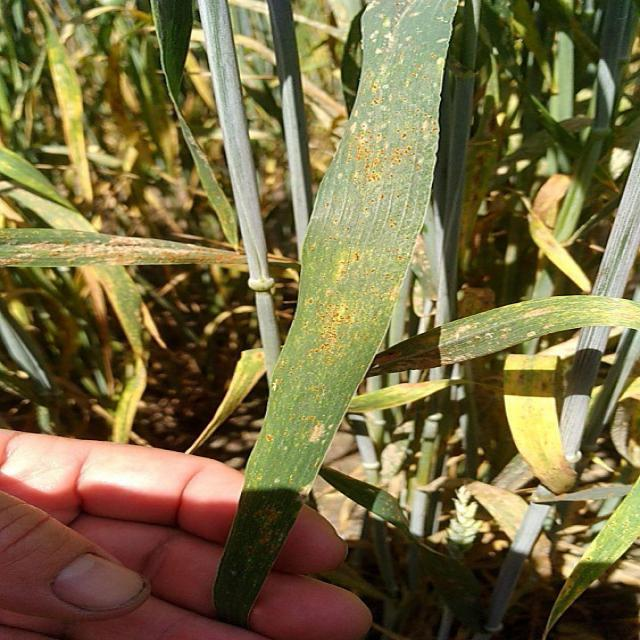wheat-powdery-mildew: (17, 237, 242, 269), (369, 323, 482, 375), (299, 298, 359, 364), (295, 479, 314, 504), (523, 308, 560, 319), (312, 423, 328, 443)
